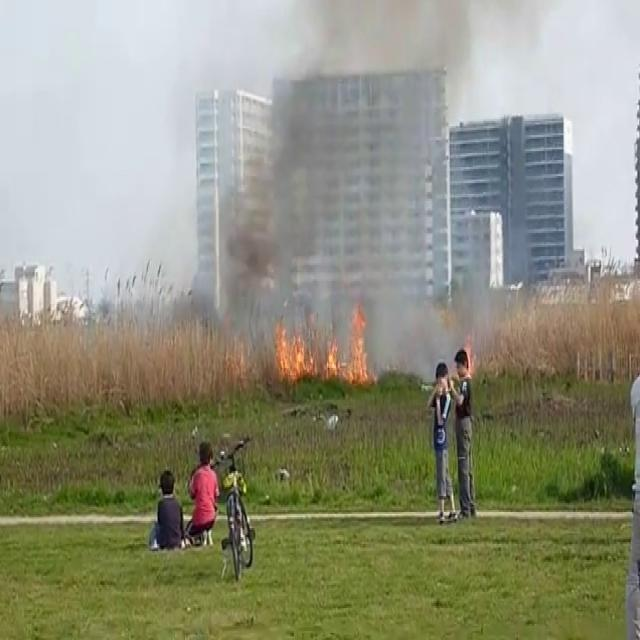Fire: (272, 305, 376, 381)
Smoke: (125, 0, 450, 370)
